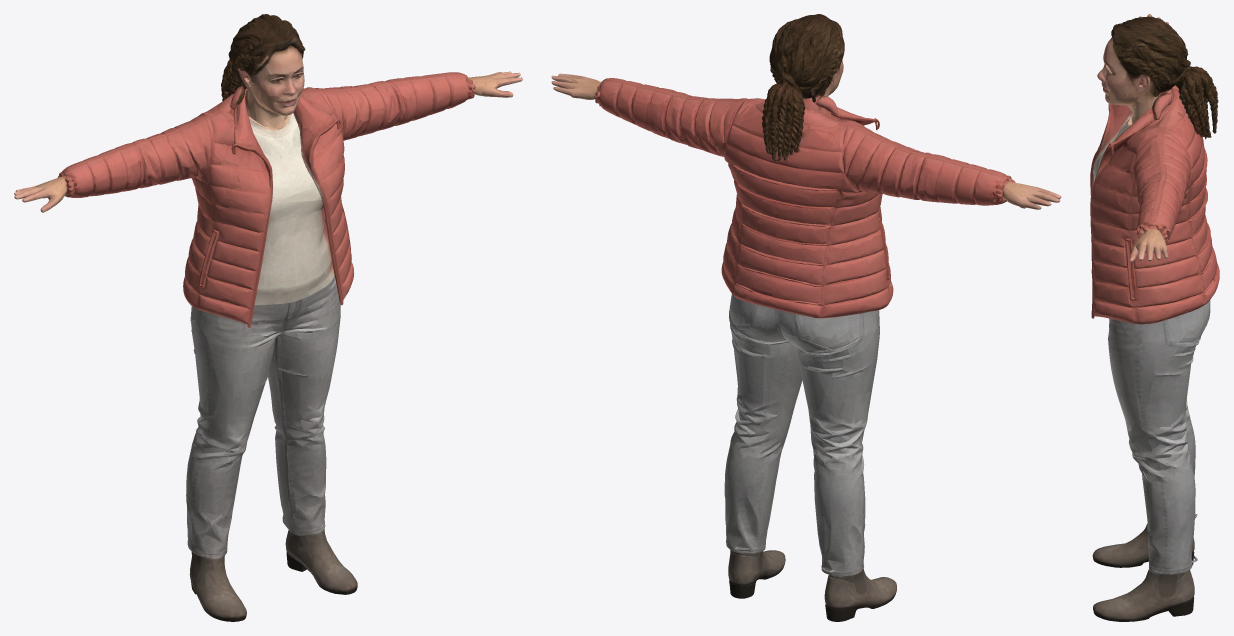
The model's file is character_n07_generated.glb.
The picture shows the model from 3 angles, left to right: view 1: azimuth 30°, elevation 25°; view 2: azimuth 150°, elevation 25°; view 3: azimuth 270°, elevation 25°; orthographic projection.
Size of the model in its own units: 1.76 by 1.9 by 0.3929.
1 material, 1 textured.
